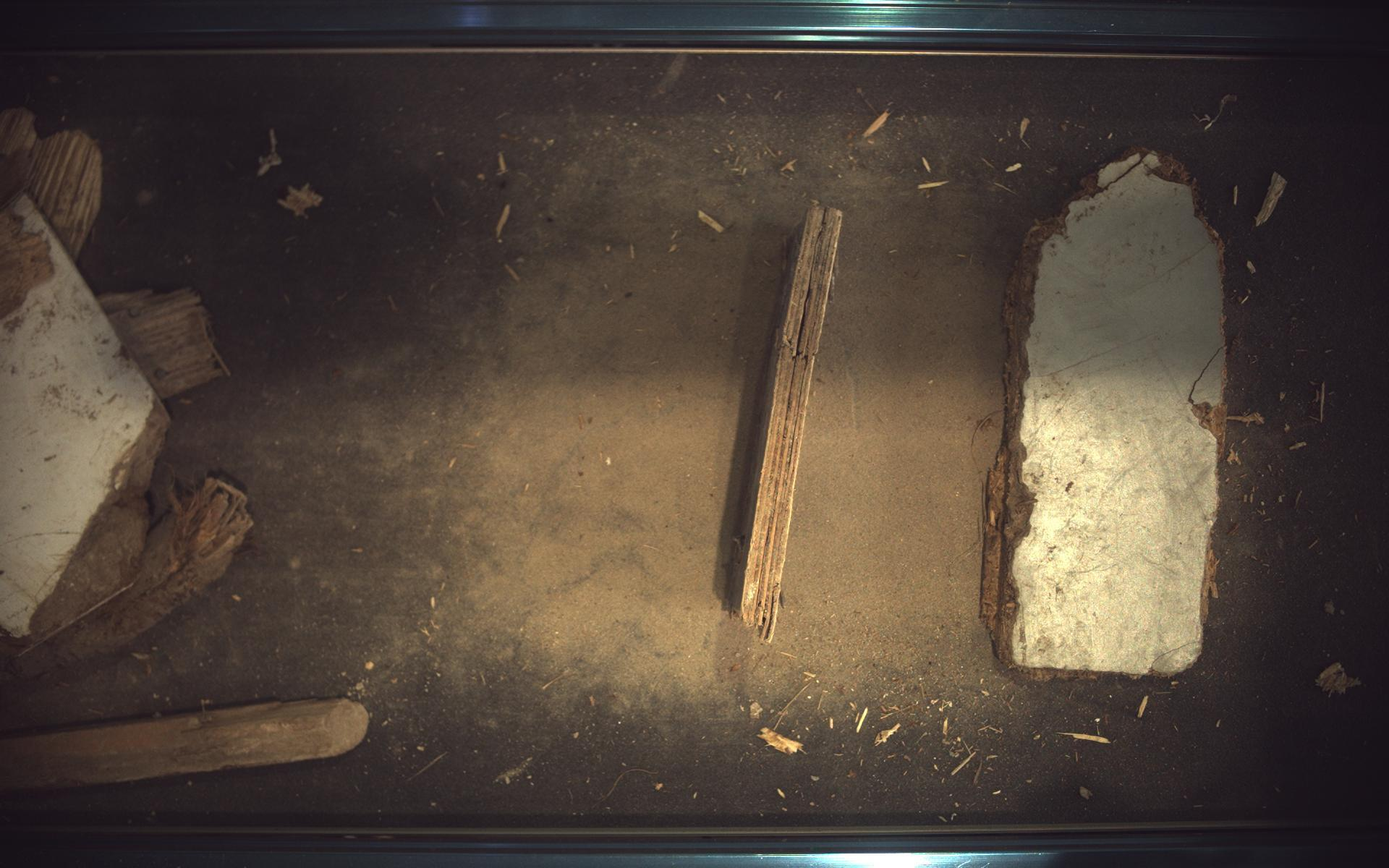wood: (983, 148, 1230, 677), (1, 193, 168, 647), (731, 203, 844, 643), (7, 477, 252, 677), (1, 699, 368, 793), (97, 287, 229, 398), (25, 129, 101, 258), (1, 106, 36, 206)
